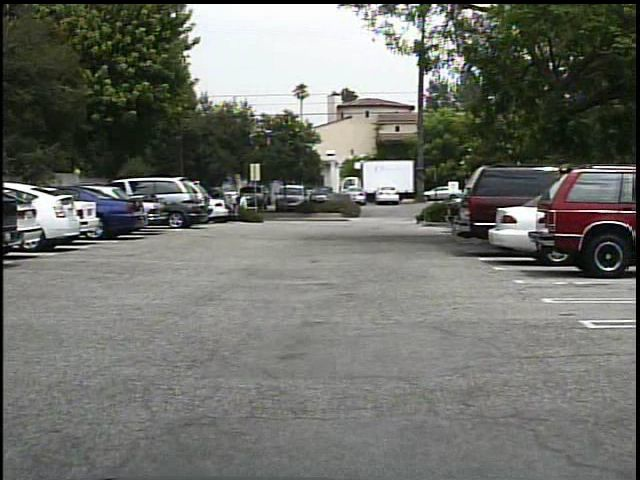person: (223, 189, 239, 220), (237, 193, 252, 220), (234, 189, 246, 220)
